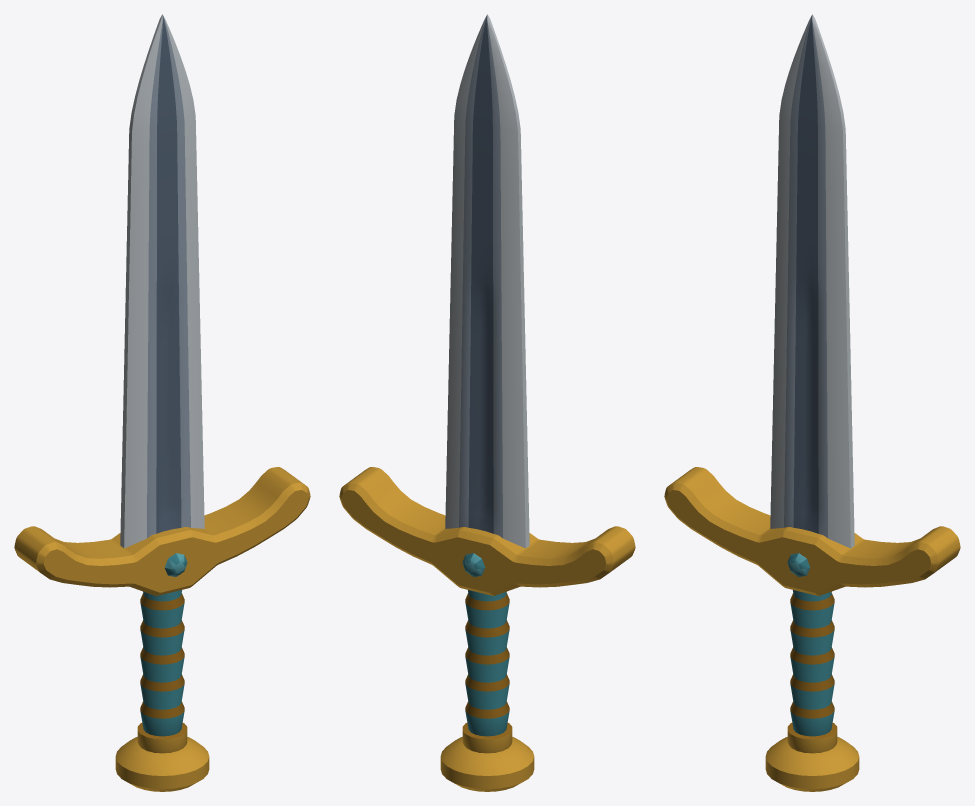
Rendered from Longsword_14.glb.
3 views of the same model, side by side, from view 1: azimuth 30°, elevation 25°; view 2: azimuth 150°, elevation 25°; view 3: azimuth 330°, elevation 25° (orthographic).
Parts seen in each view (by area): view 1: Longsword_14; view 2: Longsword_14; view 3: Longsword_14.
Boxes of the visible parts, x1,y1,x2,y2 form: Longsword_14: (14, 14, 310, 791); Longsword_14: (339, 14, 635, 791); Longsword_14: (664, 14, 960, 791).
Size of the model in its own units: 2.56 by 6.79 by 0.7566.
